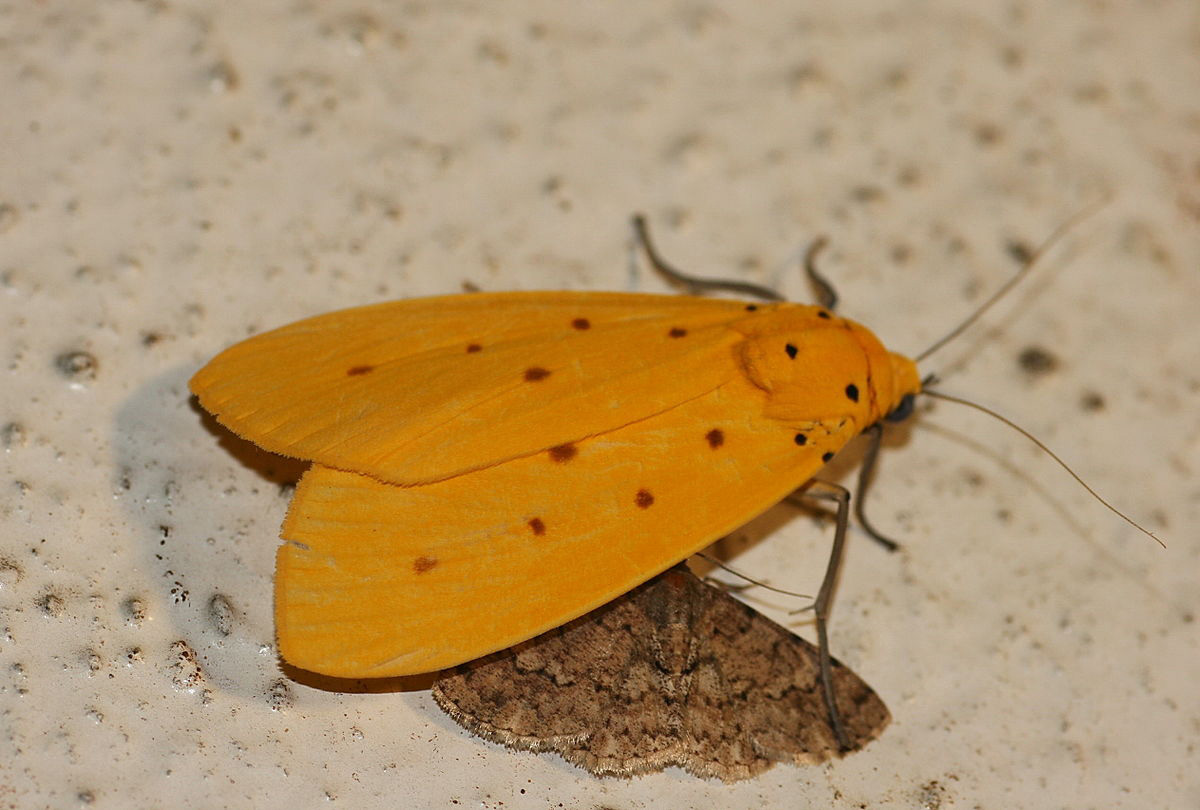Agape chloropyga: (175, 183, 1175, 759)
moth: (177, 185, 1177, 761)
